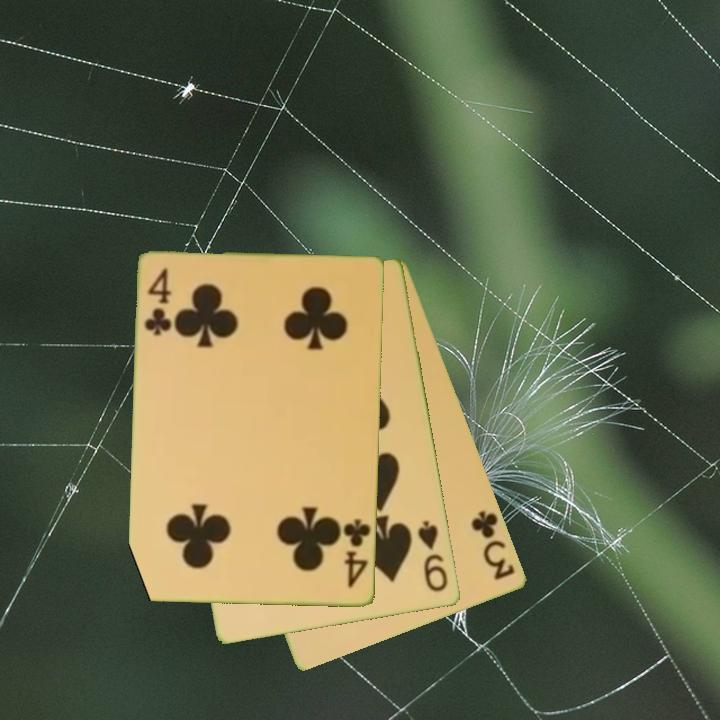3c: (468, 507, 518, 584)
4c: (340, 516, 374, 591), (141, 265, 174, 339)
9s: (415, 517, 451, 595)
